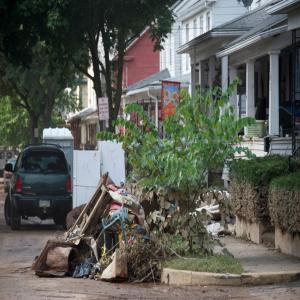Vehicle-registration-plate: (40, 199, 51, 207)
